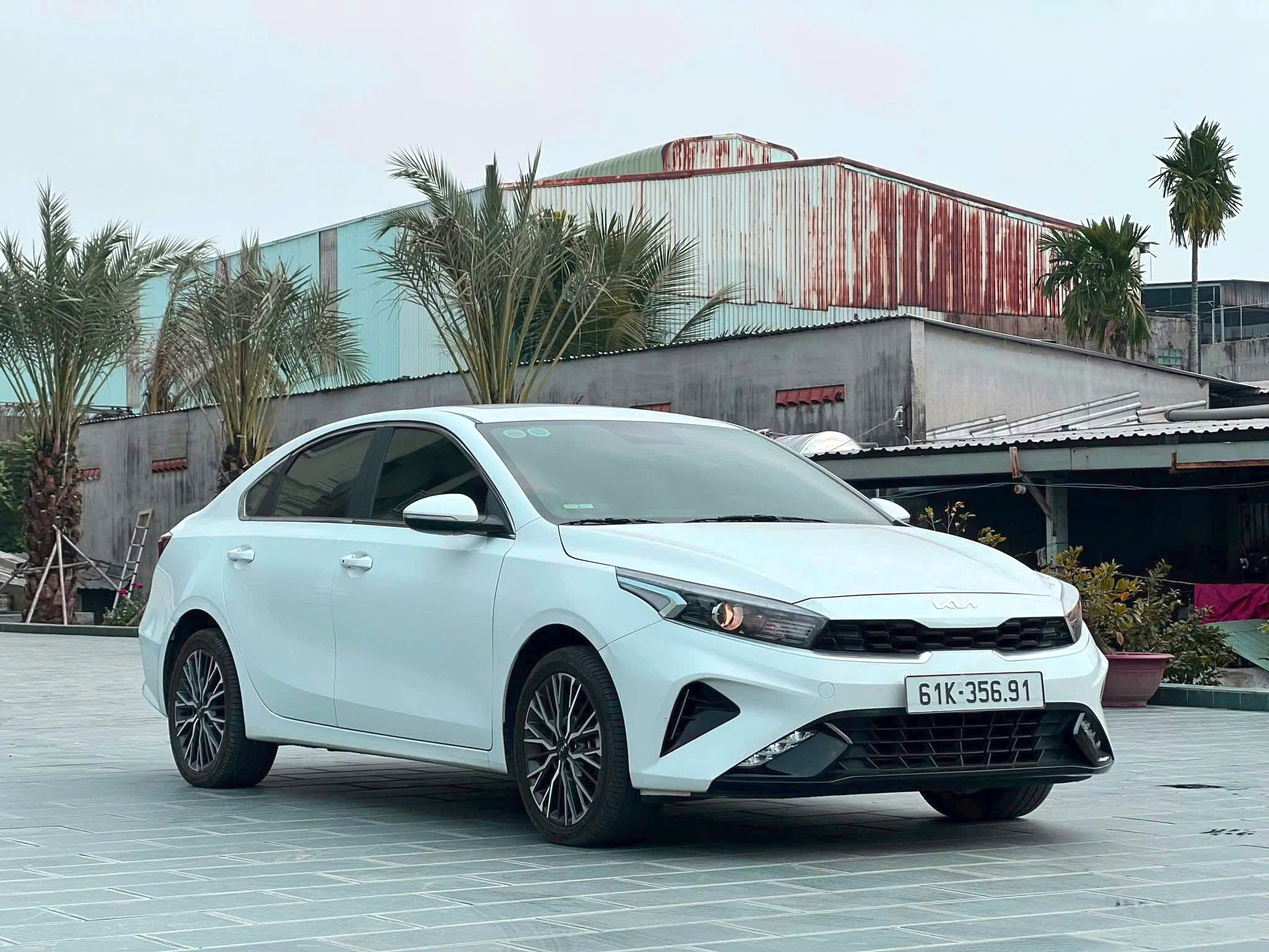Bien-so: (937, 653, 1084, 706)
